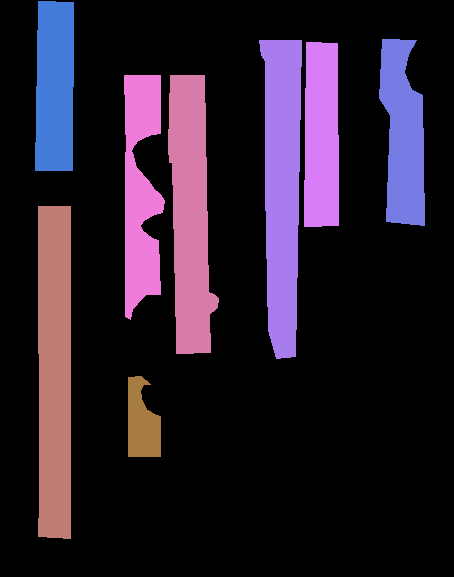parkingspot: (70, 4, 454, 542), (168, 75, 218, 353), (259, 40, 301, 358), (38, 206, 70, 538), (379, 39, 424, 225), (125, 152, 164, 319), (35, 1, 73, 170), (304, 42, 338, 226), (124, 75, 160, 154), (128, 376, 160, 456)
